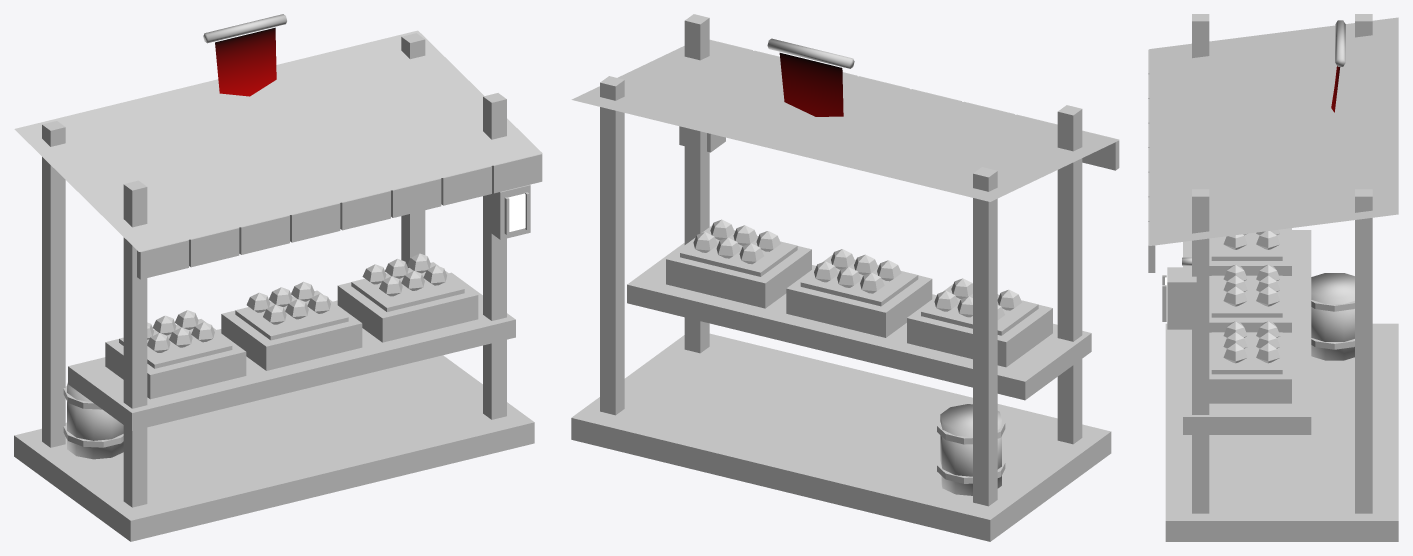
Rendered from Marche.glb.
3 views of the same model, side by side, from view 1: azimuth 30°, elevation 25°; view 2: azimuth 150°, elevation 25°; view 3: azimuth 270°, elevation 25° (orthographic). The views are drawn at different scales.
Visible parts, largest first — view 1: Structure, Drapeau_Marche; view 2: Structure, Drapeau_Marche; view 3: Structure.
Part boxes in pixels (x1=…): Structure: x1=14, y1=14, x2=542, y2=541; Drapeau_Marche: x1=215, y1=27, x2=276, y2=96; Structure: x1=571, y1=14, x2=1119, y2=541; Drapeau_Marche: x1=779, y1=53, x2=843, y2=116; Structure: x1=1148, y1=14, x2=1398, y2=541.
Size of the model in its own units: 4 by 3.82 by 2.15.
